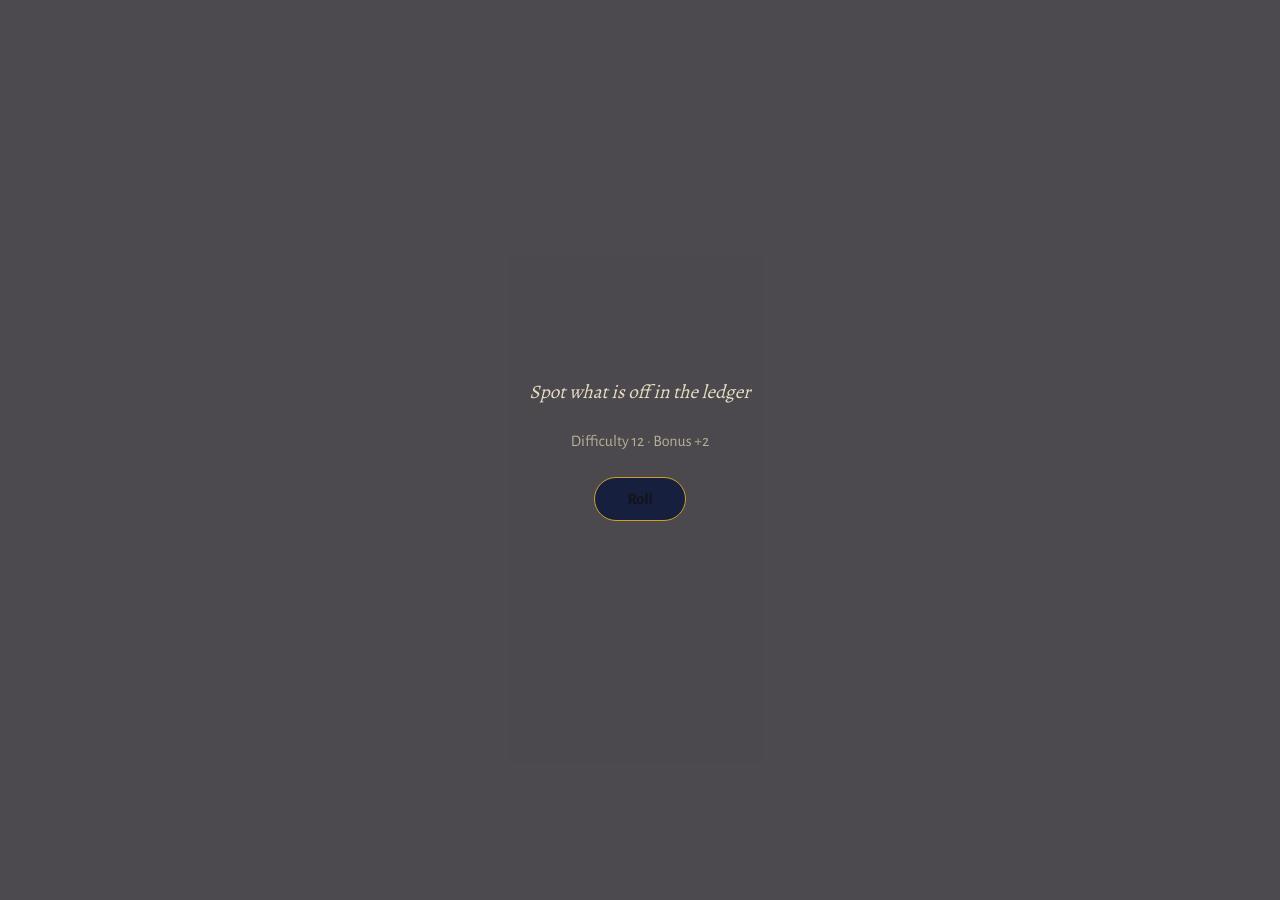
Test: DiceMoment › shows a retry message when the roll fails
Click the button "Roll" at (640, 499), box [594,477,686,521]
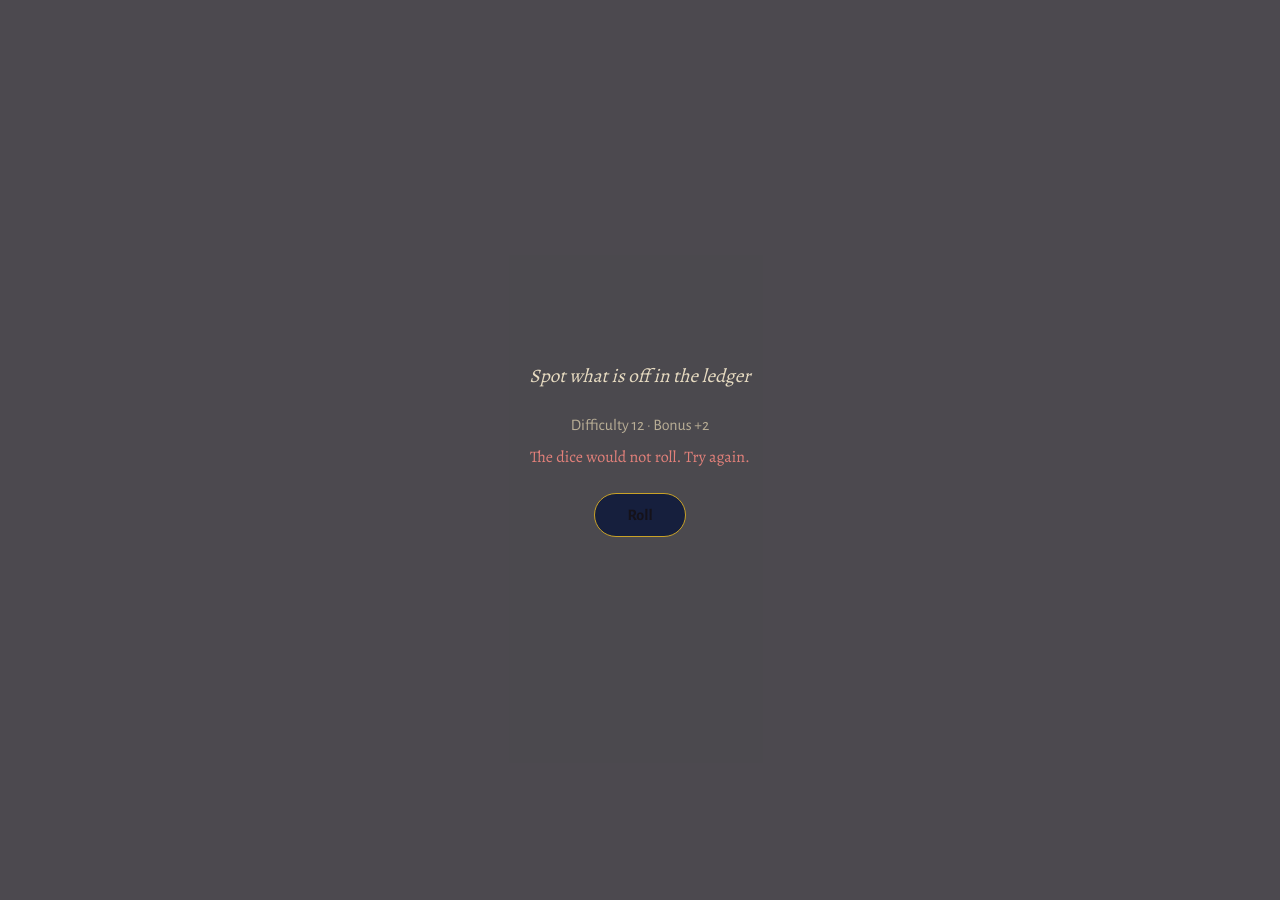
Expected: the button "Roll" is shown, [594,493,686,537]
Expected: the message shows "The dice would not roll", [530,446,750,468]
